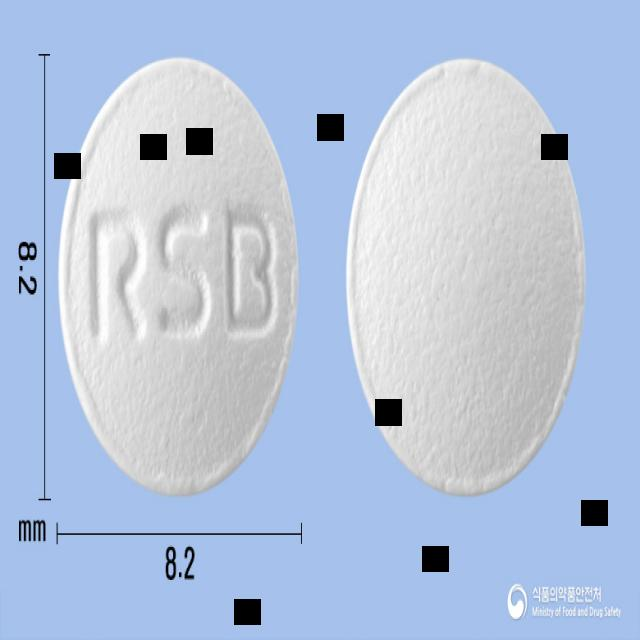Clamon Tab: (346, 53, 588, 499), (58, 53, 300, 494)
